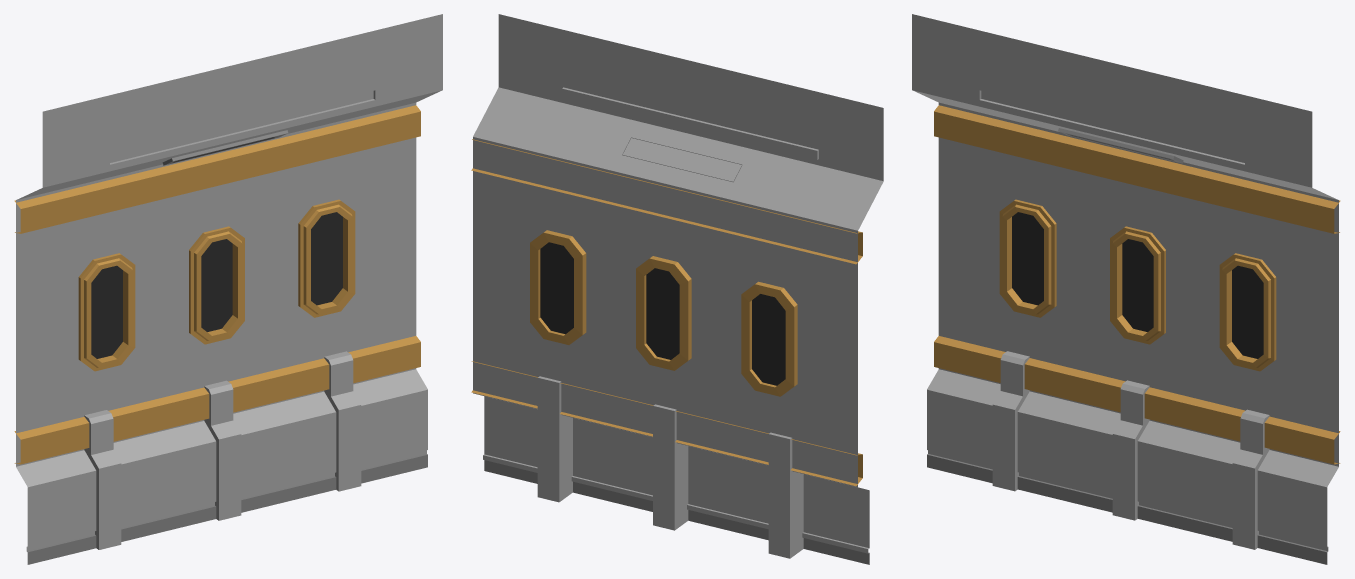
The model's file is ThreeWindows_Wall_SideB.fbx.
The picture shows the model from 3 angles, left to right: view 1: azimuth 30°, elevation 25°; view 2: azimuth 150°, elevation 25°; view 3: azimuth 330°, elevation 25°; orthographic projection. The views are drawn at different scales.
Parts seen in each view (by area): view 1: ThreeWindows_Wall_SideB; view 2: ThreeWindows_Wall_SideB; view 3: ThreeWindows_Wall_SideB.
Part boxes in pixels (bbox=[...]): ThreeWindows_Wall_SideB: bbox=[14, 14, 442, 564]; ThreeWindows_Wall_SideB: bbox=[471, 14, 883, 564]; ThreeWindows_Wall_SideB: bbox=[912, 14, 1340, 564].
Size of the model in its own units: 4 by 4.43 by 0.5261.
